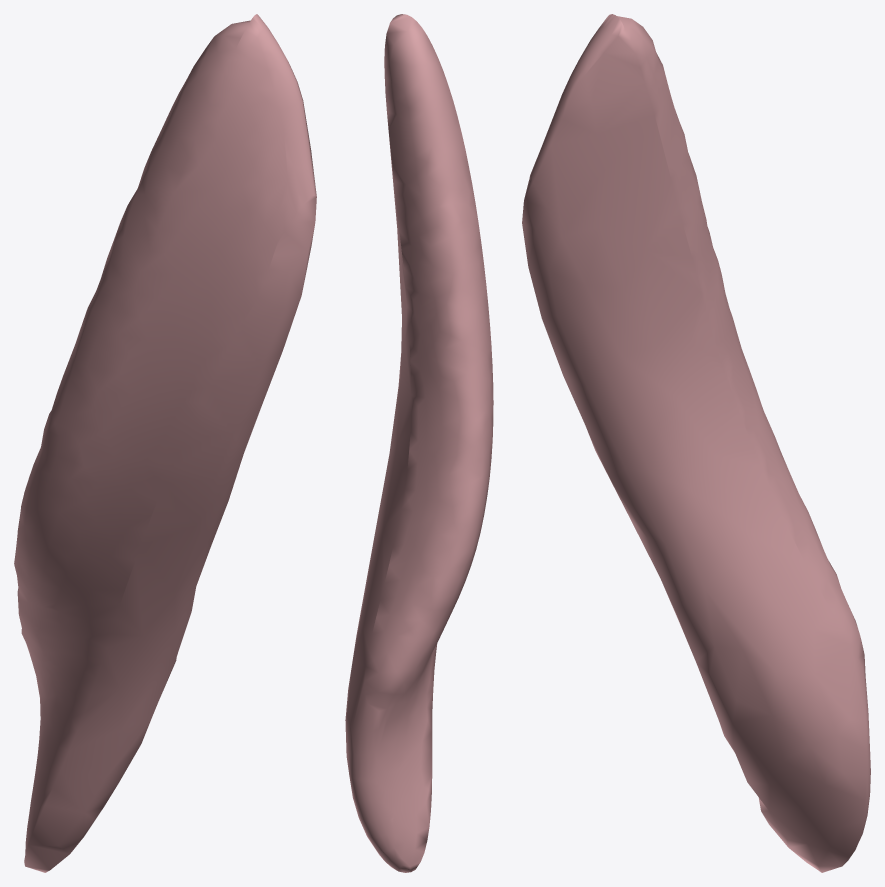
The model's file is fma48979_mm1083.glb.
3 renders of one model, left to right at view 1: azimuth 30°, elevation 25°; view 2: azimuth 150°, elevation 25°; view 3: azimuth 270°, elevation 25°, orthographic. The views are drawn at different scales.
Parts seen in each view (by area): view 1: FMA48979_MM1083; view 2: FMA48979_MM1083; view 3: FMA48979_MM1083.
Part boxes in pixels (x1,y1,x2,y2): FMA48979_MM1083: [14, 14, 316, 872]; FMA48979_MM1083: [345, 14, 493, 872]; FMA48979_MM1083: [522, 14, 870, 872].
Bounding box in the file's own units: 0.00331 × 0.0156 × 0.00543.
